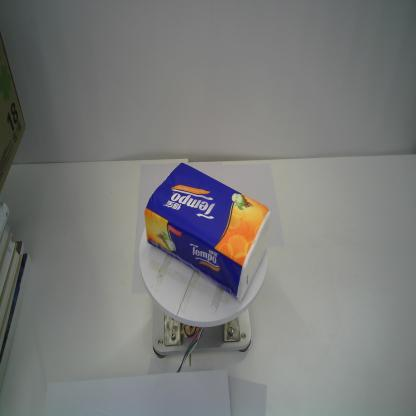Tissue: (142, 159, 273, 308)
